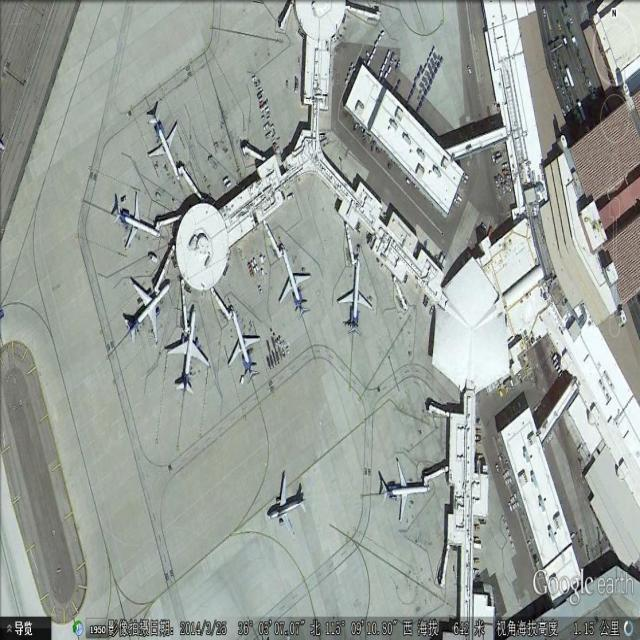aircraft: (377, 456, 436, 532), (165, 305, 211, 401), (123, 273, 173, 346), (264, 468, 311, 544), (334, 256, 376, 334), (111, 192, 162, 255), (149, 104, 184, 187), (277, 240, 313, 317), (227, 307, 263, 384)
